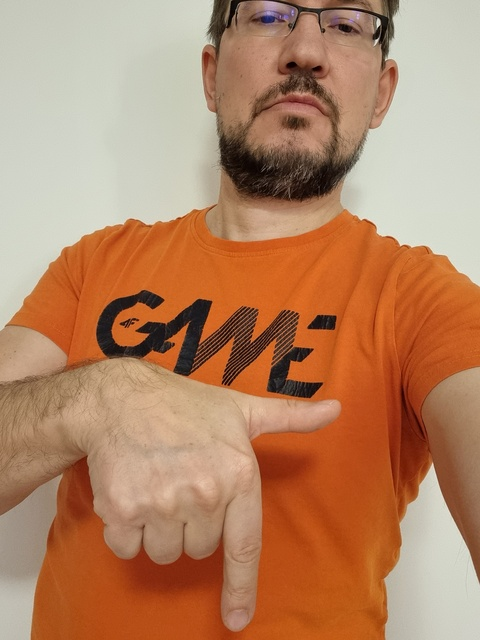GestDown: (105, 392, 340, 630)
